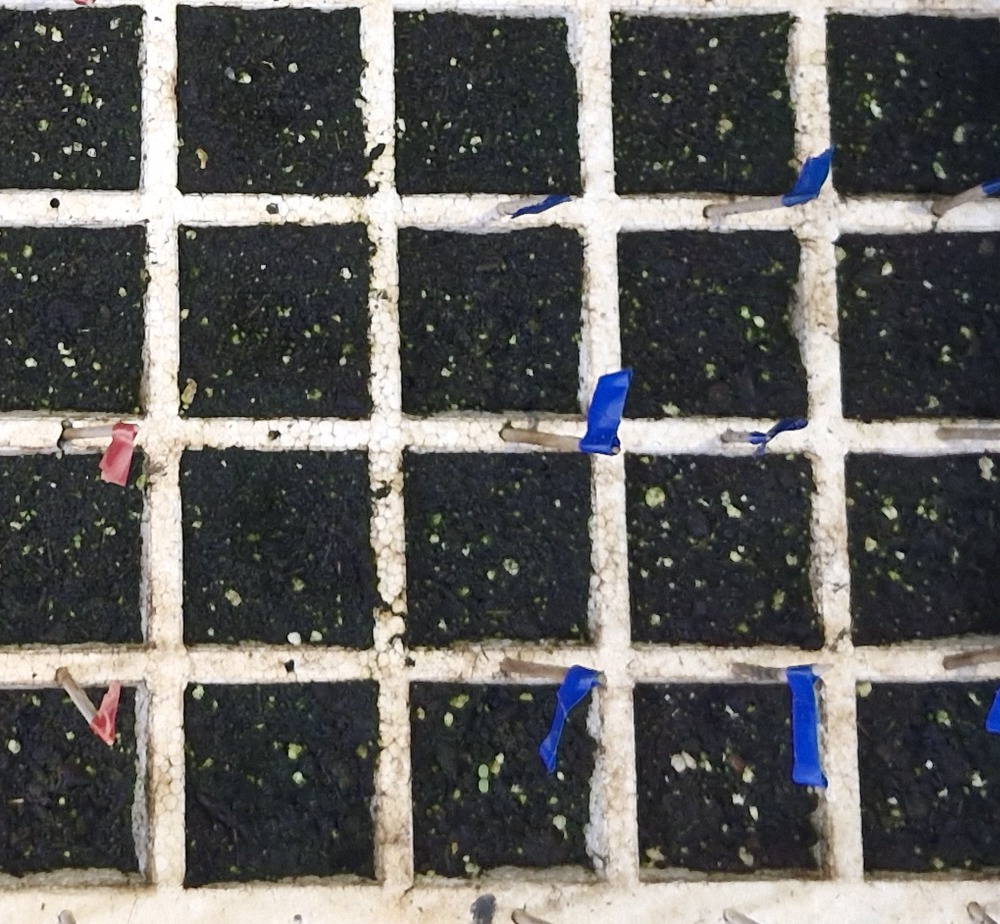Folha: (478, 779, 488, 794), (478, 764, 488, 778)
Germinacao: (479, 765, 489, 793)
